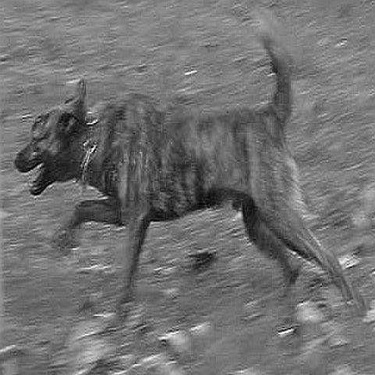dog: (6, 14, 366, 342)
